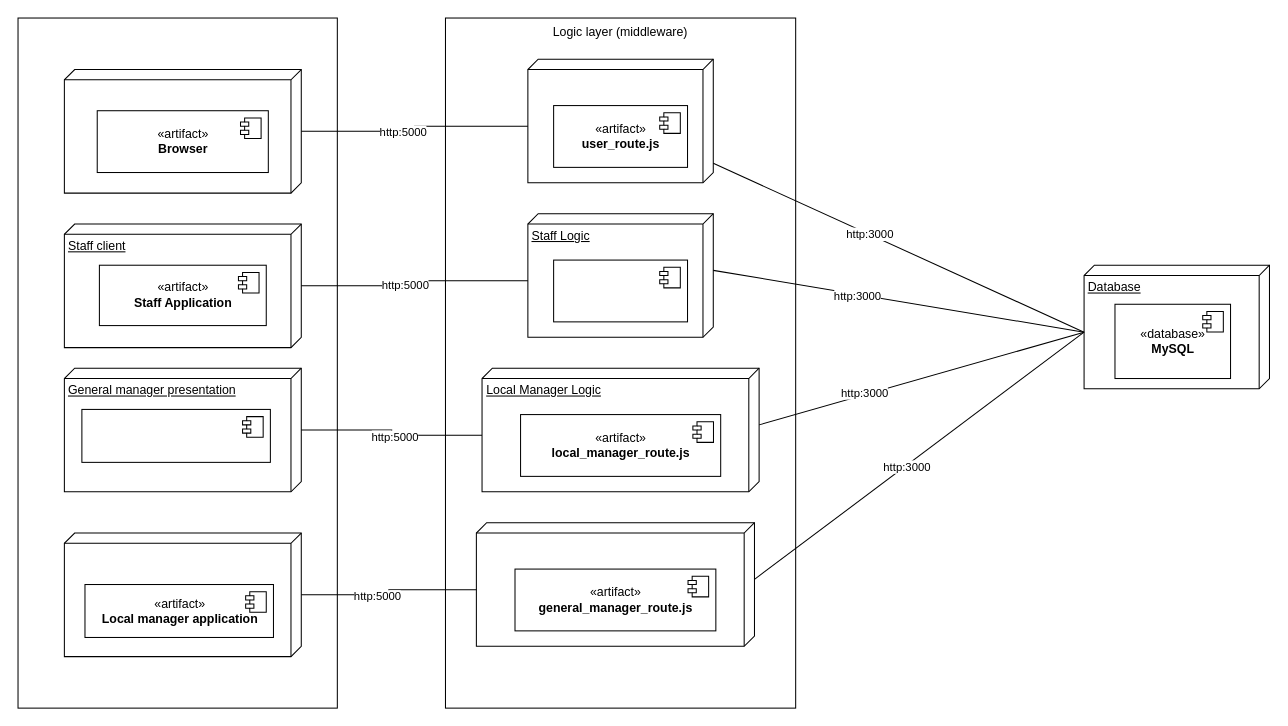
Some shapes in this 1288 by 726 pixel diagram are drawn without their labels. The shapes that lost their labels are listed below. From the top down, each one's box as (x1, y1, x2, y2) in pixels, then its label:
(63, 68, 301, 193): User client
(527, 58, 713, 183): User Logic
(553, 259, 688, 322): «artifact» staff_route.js
(17, 17, 337, 708): Client layer
(81, 408, 270, 462): «artifact» General manager application
(63, 532, 301, 657): Local manager presentation
(475, 522, 754, 646): General manager logic
